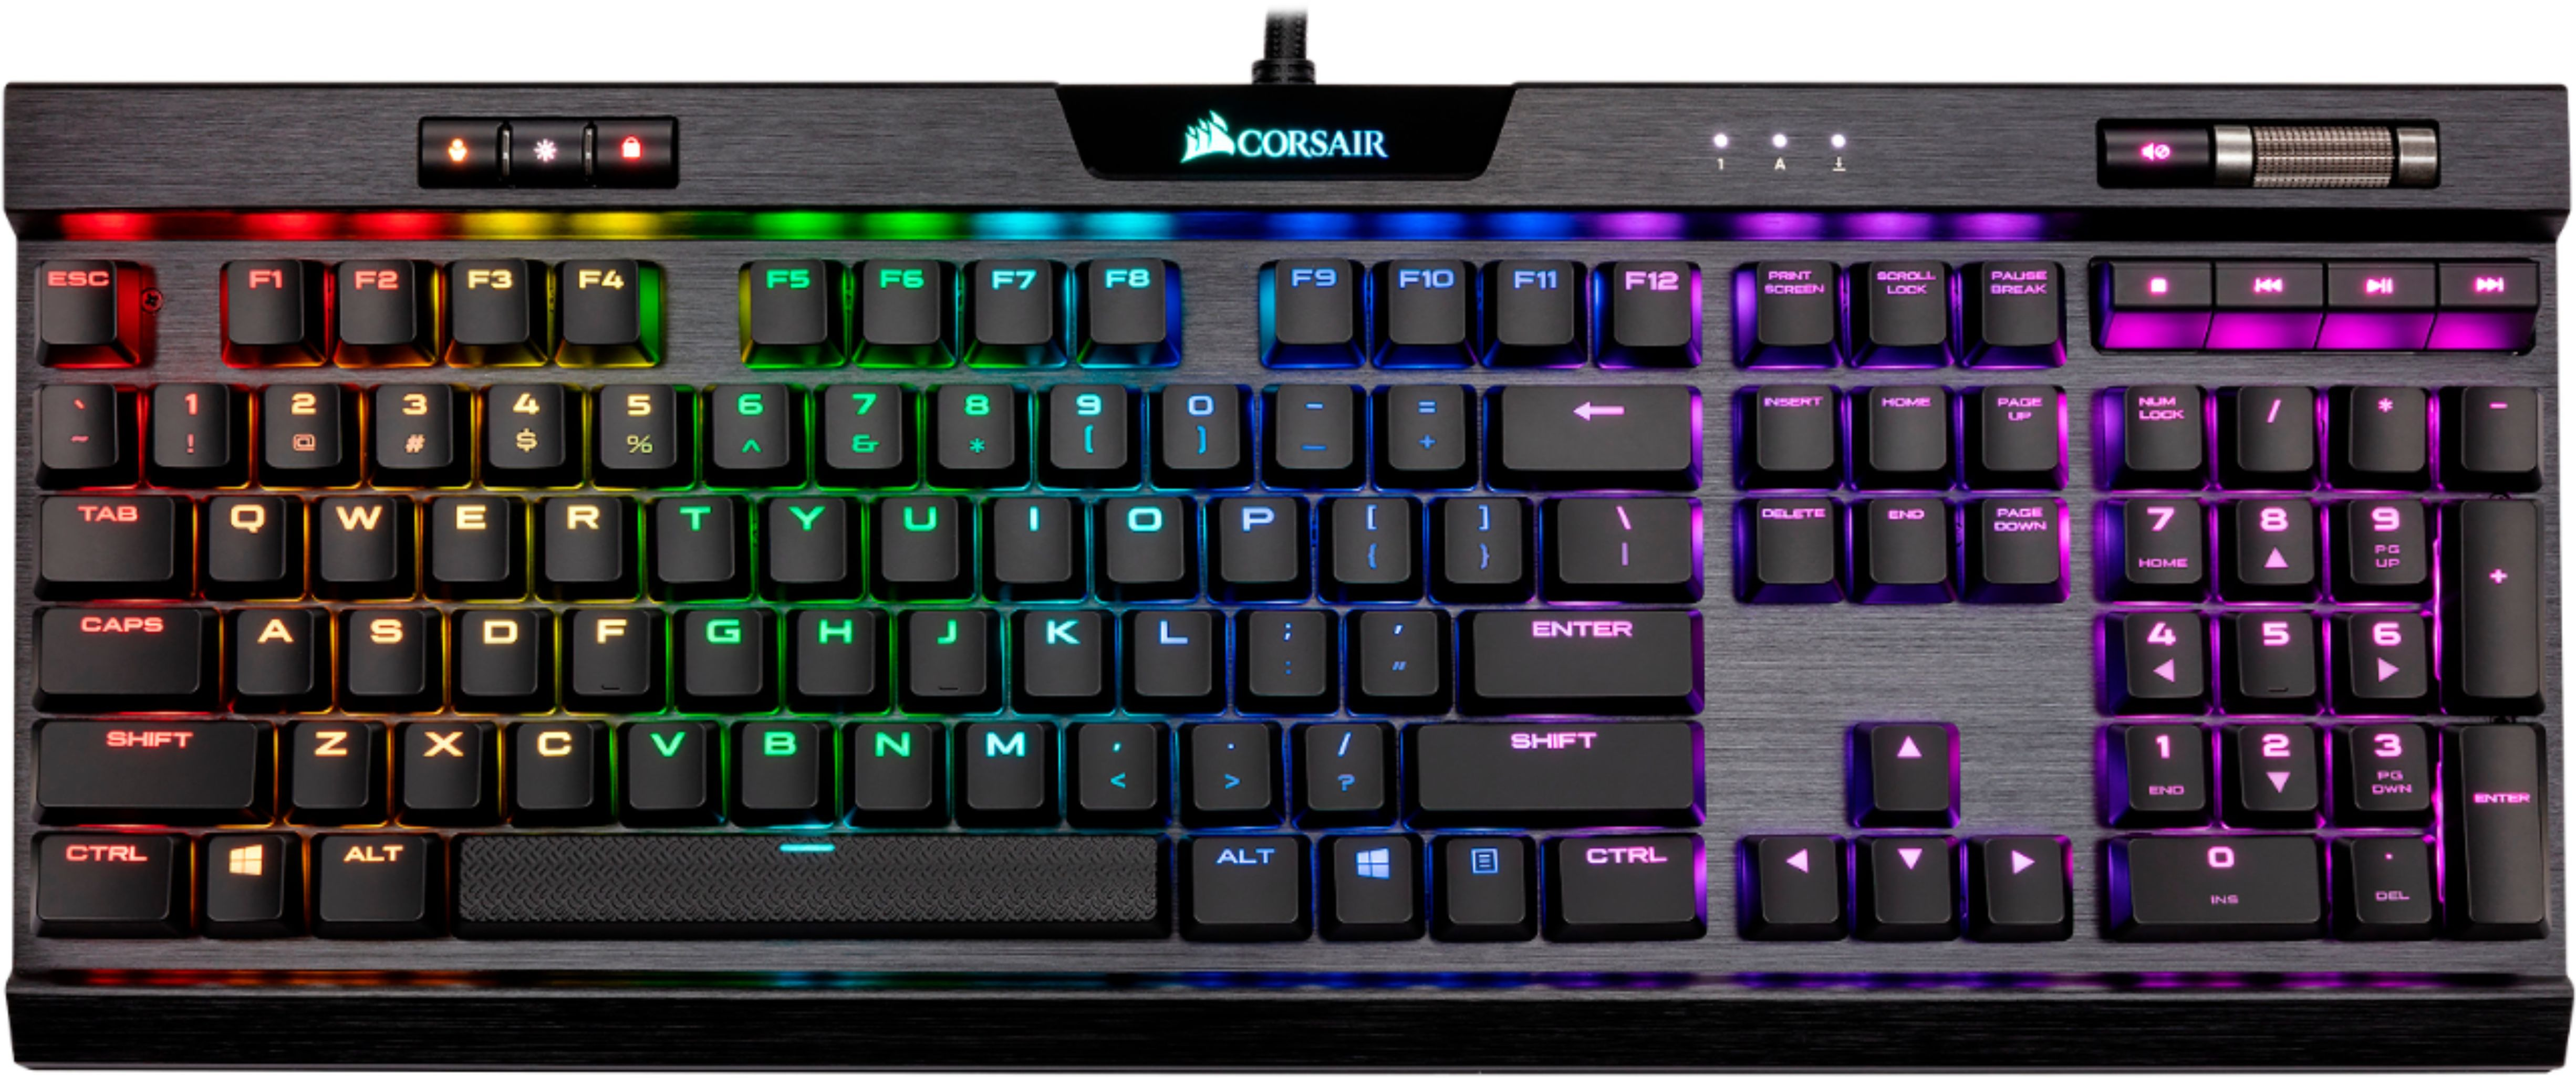keyboard: (8, 85, 2566, 1078)
